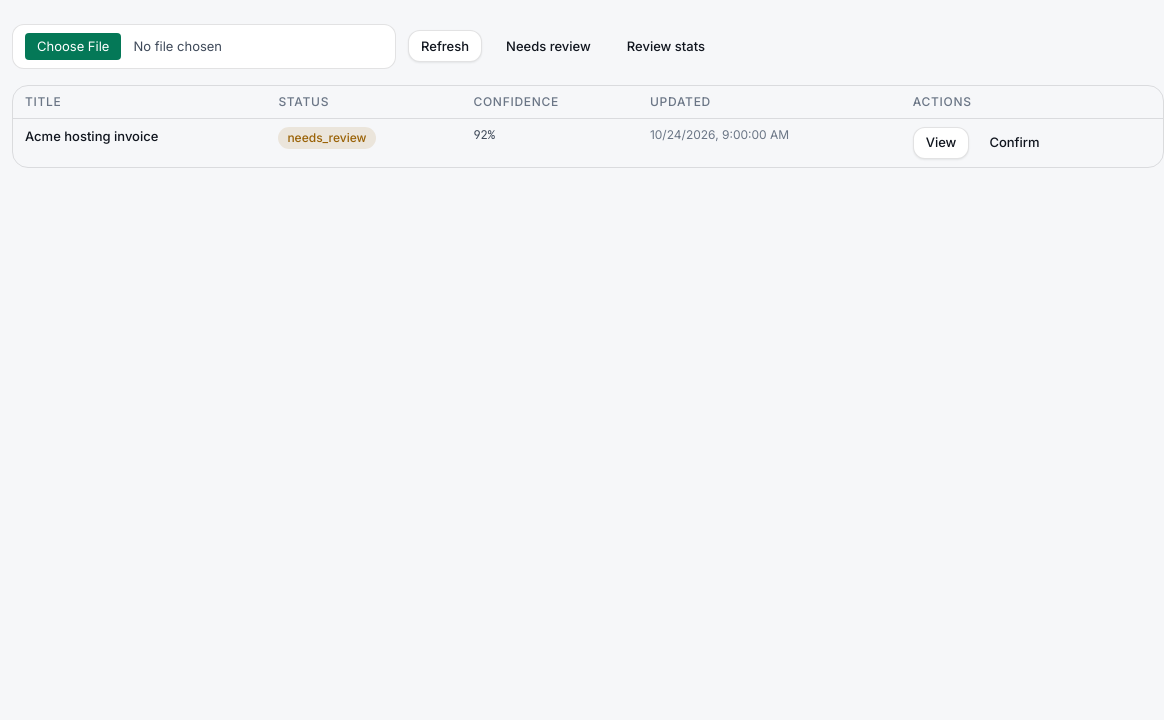
DocumentManager review mode › loads findings and audit history when a review row opens
Click the button "Needs review": (548, 46) [494, 30, 603, 62]
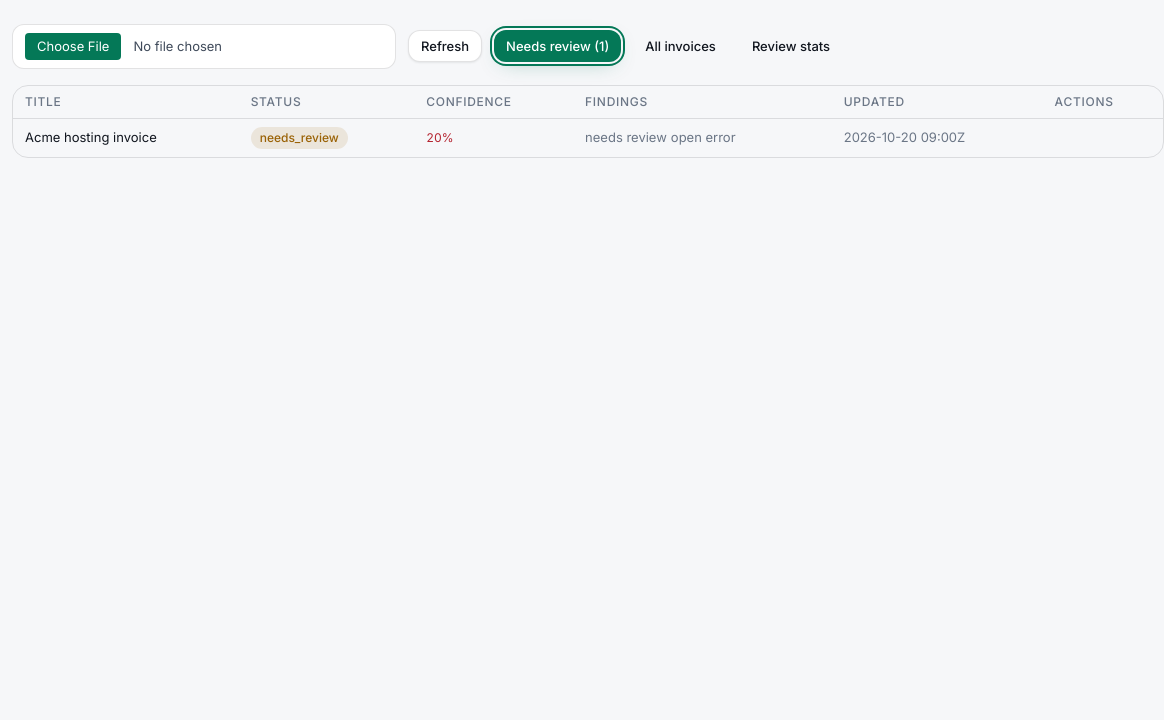
Click the button "Acme hosting invoice": (91, 138) [25, 128, 157, 147]
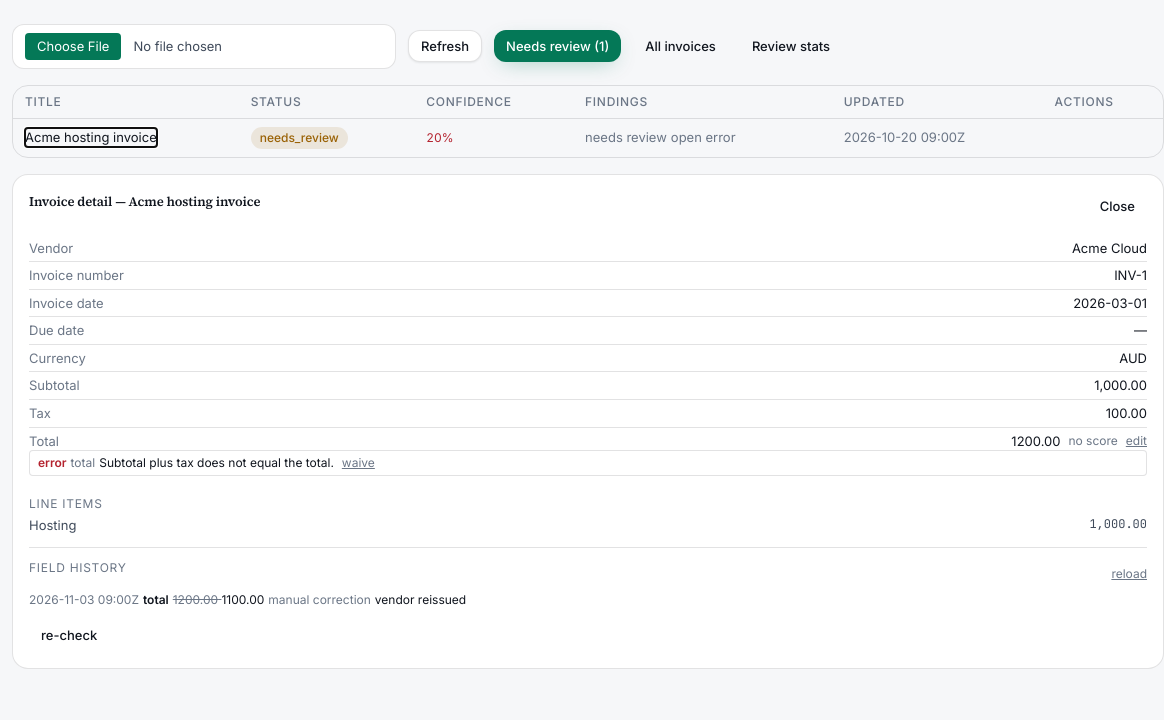
Result: the text "Subtotal plus tax does not equal the total." is shown at [99, 455, 334, 470]
Result: the text "Field history" is shown at [29, 560, 127, 576]
